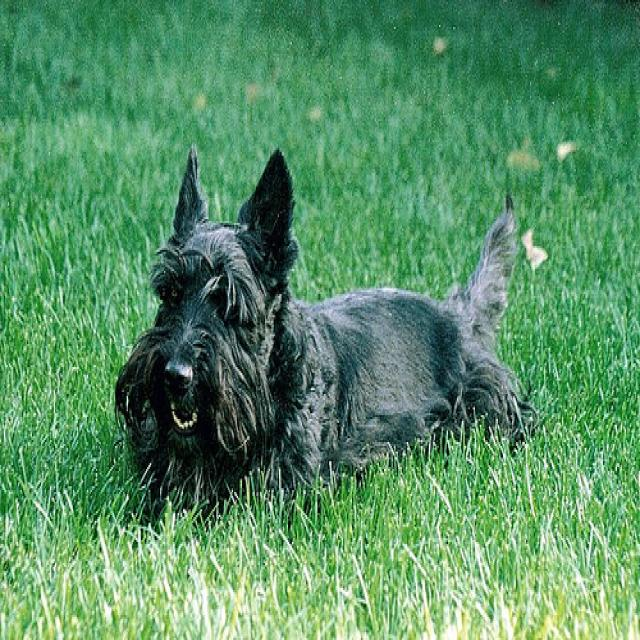dog-scottish_terrier: (109, 133, 543, 550)
